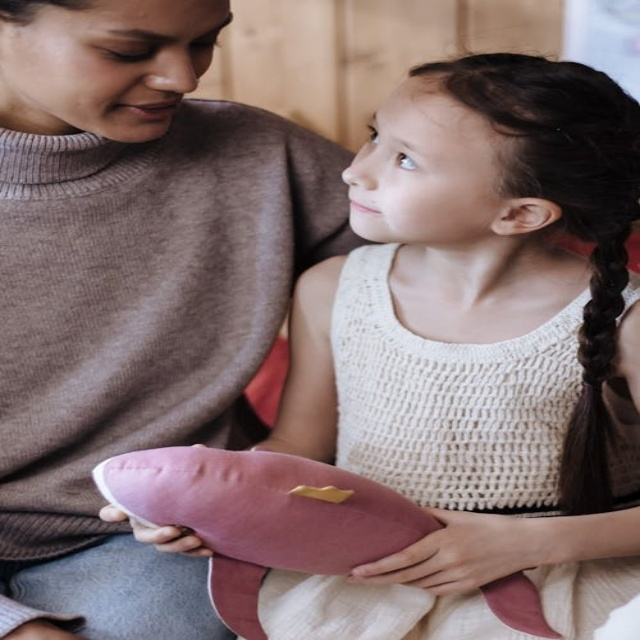Sin_gafas: (353, 101, 471, 181), (69, 21, 225, 79)
Sin_guantes: (338, 500, 543, 598), (100, 500, 214, 559)
Sin_mascara: (82, 90, 187, 147), (343, 188, 426, 241)
